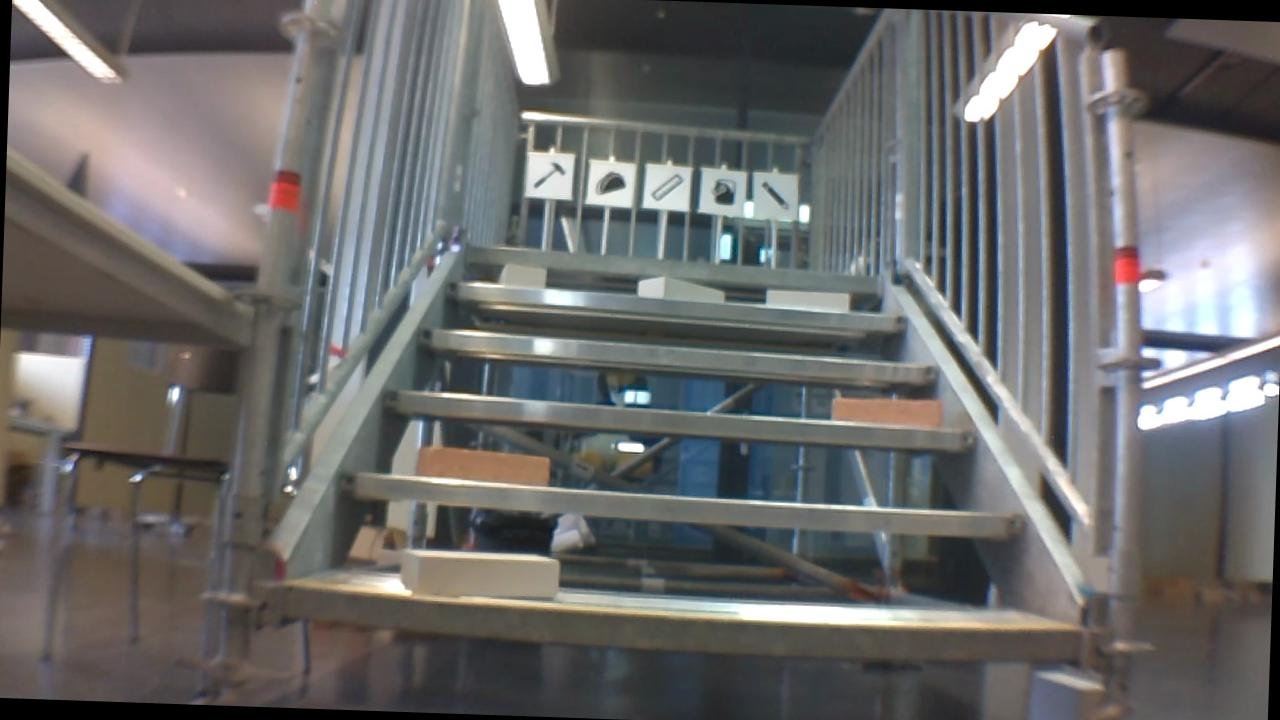brick: (401, 549, 560, 601), (416, 447, 547, 486), (830, 397, 942, 427), (638, 275, 724, 301), (767, 289, 849, 309), (500, 264, 544, 285)
bucket: (708, 174, 741, 211)
edge: (286, 583, 1078, 661), (337, 473, 1027, 537), (383, 390, 977, 449), (417, 328, 937, 382), (443, 282, 906, 331), (463, 244, 879, 292)
hammer: (528, 155, 569, 193)
pencil: (760, 178, 796, 211)
ruler: (650, 169, 685, 204)
steps: (273, 232, 1099, 676)
taco: (592, 165, 628, 200)
